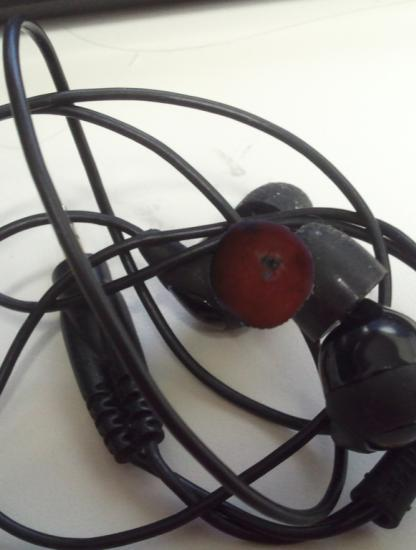Pomegranate: (207, 220, 315, 328)
